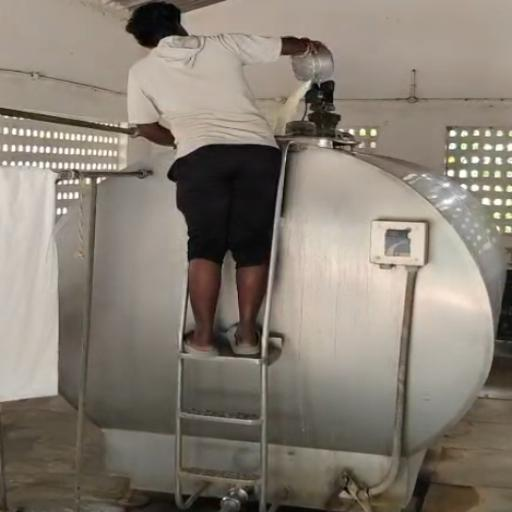silo: (56, 132, 509, 511)
vessel: (291, 47, 333, 83)
